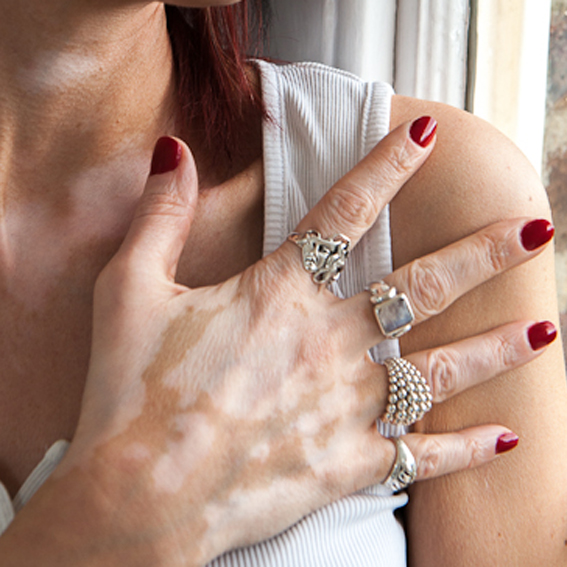vitiligo: (42, 137, 389, 515)
